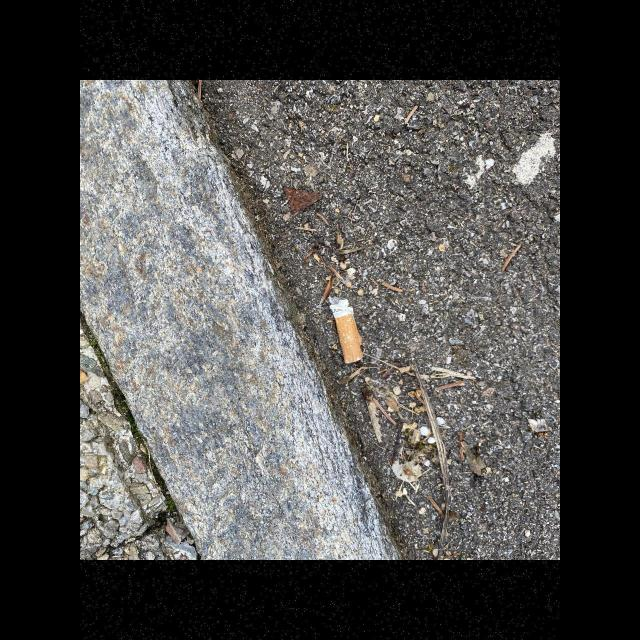cigarette: (329, 299, 363, 364)
